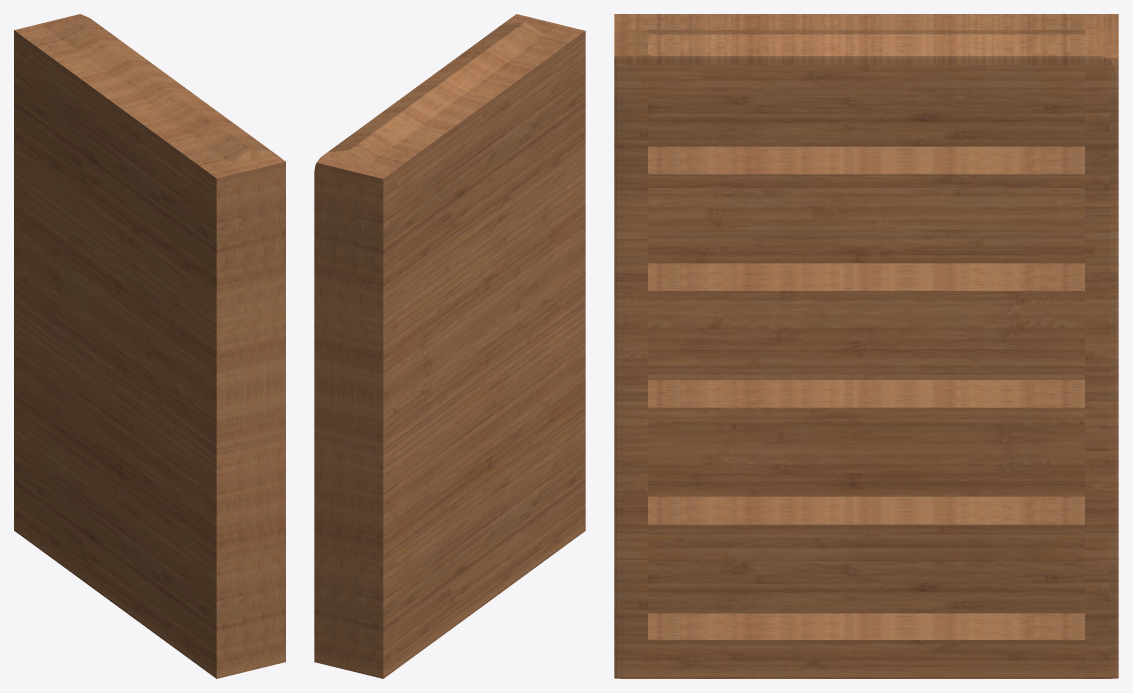
Rendered from bookshelf3.fbx.
3 views of the same model, side by side, from view 1: azimuth 30°, elevation 25°; view 2: azimuth 150°, elevation 25°; view 3: azimuth 270°, elevation 25° (orthographic). The views are drawn at different scales.
Visible parts, largest first — view 1: Cube; view 2: Cube; view 3: Cube.
Boxes of the visible parts, x1=… form: Cube: x1=14, y1=14, x2=285, y2=678; Cube: x1=314, y1=14, x2=585, y2=678; Cube: x1=614, y1=14, x2=1118, y2=678.
Size of the model in its own units: 46.96 by 316 by 229.
Materials: 1 (1 with a texture image).
